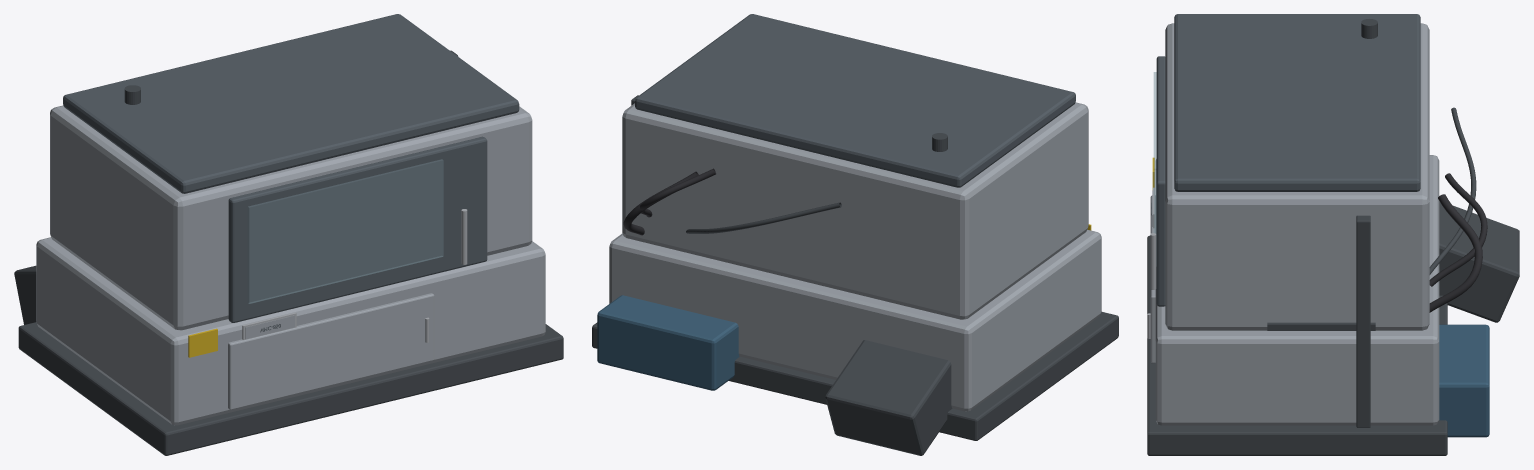
File: cnc.glb
3 views of the same model, side by side, from view 1: azimuth 30°, elevation 25°; view 2: azimuth 150°, elevation 25°; view 3: azimuth 270°, elevation 25° (orthographic). The views are drawn at different scales.
Visible parts, largest first — view 1: cnc_cap, cnc_enclosure, cnc_door_frame, cnc_lower, cnc_door_glass, cnc_plinth, cnc_cabinet_door, cnc_chip_conveyor, cnc_warn_plate, cnc_nameplate; view 2: cnc_enclosure, cnc_cap, cnc_lower, cnc_chip_conveyor, cnc_coolant_tank, cnc_plinth, cnc_cable, cnc_hose_b, cnc_hose_a; view 3: cnc_cap, cnc_enclosure, cnc_lower, cnc_plinth, cnc_chip_conveyor, cnc_coolant_tank, cnc_panel_post, cnc_door_frame, cnc_hose_a, cnc_hose_b, cnc_cable, cnc_vent_4 (+3 smaller).
Part boxes in pixels (left/top/right/bottom): cnc_cap: left=63, top=14, right=519, bottom=193; cnc_enclosure: left=50, top=105, right=532, bottom=330; cnc_door_frame: left=228, top=136, right=487, bottom=322; cnc_lower: left=36, top=237, right=545, bottom=425; cnc_door_glass: left=248, top=159, right=443, bottom=303; cnc_plinth: left=18, top=322, right=563, bottom=455; cnc_cabinet_door: left=228, top=293, right=434, bottom=409; cnc_chip_conveyor: left=14, top=265, right=36, bottom=324; cnc_warn_plate: left=188, top=328, right=217, bottom=357; cnc_nameplate: left=245, top=315, right=294, bottom=339; cnc_enclosure: left=622, top=102, right=1088, bottom=319; cnc_cap: left=635, top=14, right=1075, bottom=187; cnc_lower: left=609, top=229, right=1101, bottom=411; cnc_chip_conveyor: left=825, top=340, right=952, bottom=455; cnc_coolant_tank: left=597, top=295, right=739, bottom=390; cnc_plinth: left=592, top=311, right=1118, bottom=440; cnc_cable: left=686, top=202, right=841, bottom=233; cnc_hose_b: left=640, top=168, right=716, bottom=217; cnc_hose_a: left=623, top=171, right=698, bottom=235; cnc_cap: left=1174, top=14, right=1420, bottom=191; cnc_enclosure: left=1165, top=23, right=1429, bottom=330; cnc_lower: left=1155, top=155, right=1439, bottom=425; cnc_plinth: left=1147, top=235, right=1447, bottom=455; cnc_chip_conveyor: left=1439, top=201, right=1519, bottom=322; cnc_coolant_tank: left=1439, top=324, right=1489, bottom=437; cnc_panel_post: left=1356, top=215, right=1370, bottom=427; cnc_door_frame: left=1156, top=56, right=1165, bottom=306; cnc_hose_a: left=1429, top=194, right=1482, bottom=312; cnc_hose_b: left=1429, top=173, right=1487, bottom=286; cnc_cable: left=1429, top=107, right=1476, bottom=274; cnc_vent_4: left=1267, top=322, right=1375, bottom=330.
Bounding box in the file's own units: 3.9 × 2.56 × 3.1.
